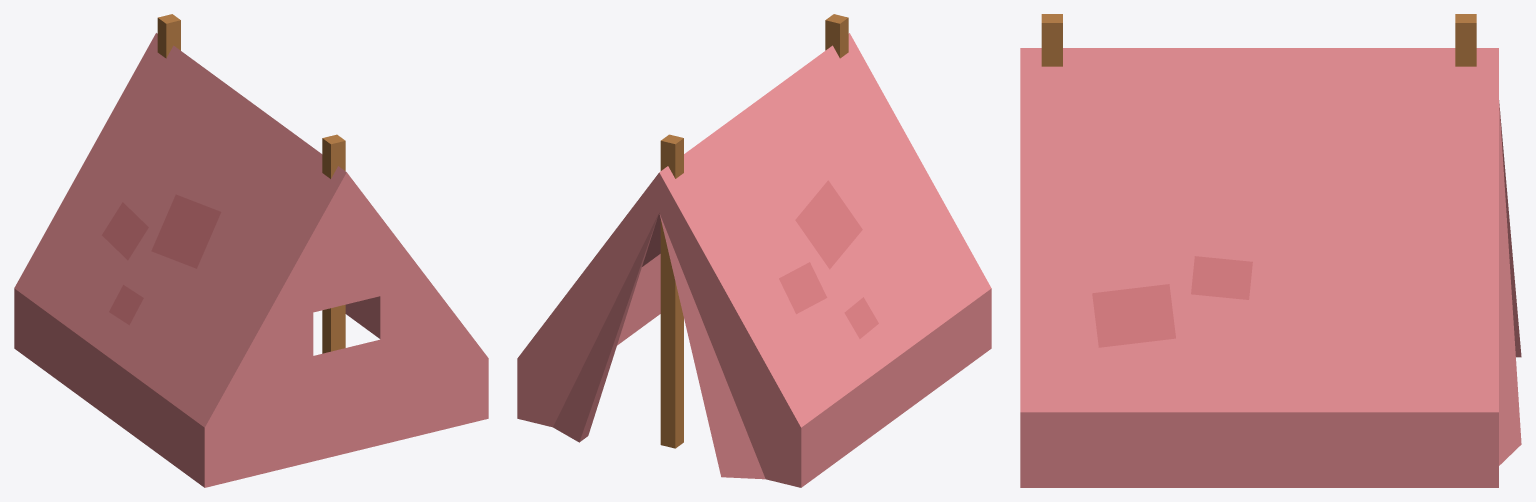
Rendered from tent_smallOpen.glb.
The picture shows the model from 3 angles, left to right: view 1: azimuth 30°, elevation 25°; view 2: azimuth 150°, elevation 25°; view 3: azimuth 270°, elevation 25°; orthographic projection. The views are drawn at different scales.
Parts seen in each view (by area): view 1: tent_smallOpen; view 2: tent_smallOpen; view 3: tent_smallOpen.
Boxes of the visible parts, x1,y1,x2,y2 form: tent_smallOpen: [14, 14, 488, 487]; tent_smallOpen: [517, 14, 991, 487]; tent_smallOpen: [1020, 14, 1521, 487].
Size of the model in its own units: 0.5476 by 0.5611 by 0.6664.
